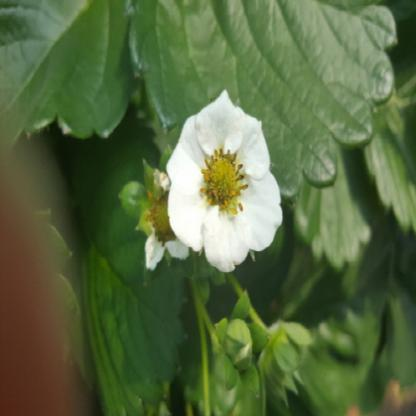Strawberry_Blossom_Blight: (197, 145, 252, 218)
